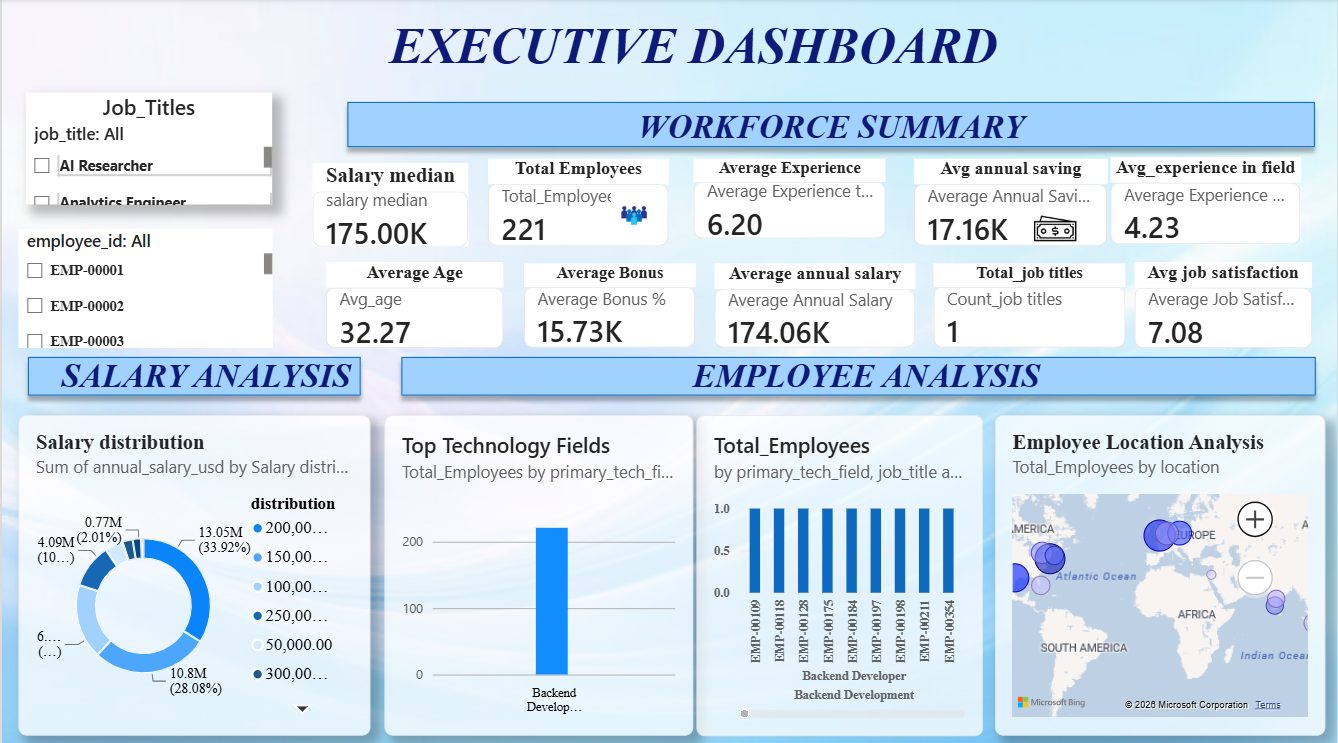

The page's visual inventory and layout, read from the dashboard file:
{"tool":"powerbi","page":{"name":"Executive dashboard","canvas":[1280,720],"ordinal":0},"visuals":[{"type":"cardVisual","title":"Avg annual saving","fields":{"Data":["tech_salary_dataset.Average Annual Salary"]},"box":[874.9,153.9,185.9,83.5],"z":0,"group":"g2"},{"type":"cardVisual","title":"Average annual salary","fields":{"Data":["tech_salary_dataset.Average Annual Salary1"]},"box":[682.5,254.4,193,80.7],"z":0},{"type":"cardVisual","title":"Average Bonus","fields":{"Data":["tech_salary_dataset.Average Bonus %"]},"box":[500,254.4,164.9,80.7],"z":1000},{"type":"cardVisual","title":"Avg job satisfaction","fields":{"Data":["tech_salary_dataset.Average Job Satisfaction Score"]},"box":[1086,252.6,170.2,82.5],"z":2000},{"type":"cardVisual","title":"Average Experience","fields":{"Data":["tech_salary_dataset.Average Experience total"]},"box":[663.1,154.4,184.3,77.2],"z":3000},{"type":"cardVisual","title":"Avg_experience in field","fields":{"Data":["tech_salary_dataset.Average Experience"]},"box":[1063.2,152.8,182.7,83.5],"z":4000},{"type":"donutChart","title":"Salary distribution","fields":{"Category":["tech_salary_dataset.Salary distribution"],"Y":["Sum(tech_salary_dataset.annual_salary_usd)"]},"box":[15.8,400.1,337.1,307.1],"z":5000},{"type":"columnChart","title":"Top Technology Fields","fields":{"Category":["tech_salary_dataset.primary_tech_field"],"Y":["tech_salary_dataset.Total_Employees"]},"box":[367,400.1,296.1,307.1],"z":6000},{"type":"map","title":"Employee Location Analysis","fields":{"Size":["tech_salary_dataset.Total_Employees"],"Category":["tech_salary_dataset.location"]},"box":[951.3,400.1,316.6,307.1],"z":7000},{"type":"slicer","title":"Job_Titles","fields":{"Values":["tech_salary_dataset.job_title"]},"box":[23.3,90,235.7,107],"z":8000},{"type":"cardVisual","title":"Total_job titles","fields":{"Data":["tech_salary_dataset.Count_job titles"]},"box":[893,254.4,184.2,80.7],"z":9000},{"type":"cardVisual","title":"Average Age","fields":{"Data":["tech_salary_dataset.Avg_age"]},"box":[310.5,252.6,170.2,82.5],"z":10000},{"type":"group","id":"g1","title":"Group 1","box":[466.2,154.4,174.8,83.5],"z":11000},{"type":"cardVisual","title":"Total Employees","fields":{"Data":["tech_salary_dataset.Total_Employees"]},"box":[466.2,154.4,173.4,83.8],"z":11500,"group":"g1"},{"type":"image","box":[572.6,185.6,67.4,44.9],"z":11750,"group":"g1"},{"type":"textbox","box":[310.5,19.3,705.3,59.6],"z":12000},{"type":"shape","box":[322.8,91.2,945.6,61.4],"z":13000},{"type":"textbox","box":[322.8,105.3,945.6,64.9],"z":14000},{"type":"shape","box":[15.8,335.5,337.1,55.1],"z":15000},{"type":"shape","box":[373.3,335.5,894.6,55.1],"z":16000},{"type":"textbox","box":[22.8,343.9,345.6,47.4],"z":17000},{"type":"textbox","box":[447.4,343.9,763.2,47.4],"z":18000},{"type":"cardVisual","title":"Salary median","fields":{"Data":["tech_salary_dataset.salary median"]},"box":[297.7,157.5,149.6,80.3],"z":19000},{"type":"slicer","fields":{"Values":["tech_salary_dataset.employee_id"]},"box":[15.8,221.5,243,113.6],"z":20000},{"type":"group","id":"g2","title":"Group 2","box":[874.9,153.9,186.3,93.2],"z":21000},{"type":"image","box":[990.7,196,40.5,50.6],"z":21001,"group":"g2"},{"type":"columnChart","fields":{"Y":["tech_salary_dataset.Total_Employees"],"Category":["tech_salary_dataset.primary_tech_field Hierarchy.primary_tech_field","tech_salary_dataset.primary_tech_field Hierarchy.job_title","tech_salary_dataset.primary_tech_field Hierarchy.employee_id"]},"box":[665.8,399.8,274.7,307.8],"z":22000}]}

Visuals, with their boxes in screenshot pixels (x1, y1, x2, y2), scaled from the page's 1280x720 canvas onto the 1338x743 screenshot:
"Avg annual saving" cardVisual: l=915, t=159, r=1109, b=245
"Average annual salary" cardVisual: l=713, t=263, r=915, b=346
"Average Bonus" cardVisual: l=523, t=263, r=695, b=346
"Avg job satisfaction" cardVisual: l=1135, t=261, r=1313, b=346
"Average Experience" cardVisual: l=693, t=159, r=886, b=239
"Avg_experience in field" cardVisual: l=1111, t=158, r=1302, b=244
"Salary distribution" donutChart: l=17, t=413, r=369, b=730
"Top Technology Fields" columnChart: l=384, t=413, r=693, b=730
"Employee Location Analysis" map: l=994, t=413, r=1325, b=730
"Job_Titles" slicer: l=24, t=93, r=271, b=203
"Total_job titles" cardVisual: l=933, t=263, r=1126, b=346
"Average Age" cardVisual: l=325, t=261, r=502, b=346
"Group 1" group: l=487, t=159, r=670, b=245
"Total Employees" cardVisual: l=487, t=159, r=669, b=246
image: l=599, t=192, r=669, b=238
textbox: l=325, t=20, r=1062, b=81
shape: l=337, t=94, r=1326, b=157
textbox: l=337, t=109, r=1326, b=176
shape: l=17, t=346, r=369, b=403
shape: l=390, t=346, r=1325, b=403
textbox: l=24, t=355, r=385, b=404
textbox: l=468, t=355, r=1265, b=404
"Salary median" cardVisual: l=311, t=163, r=468, b=245
slicer - tech_salary_dataset.employee_id: l=17, t=229, r=271, b=346
"Group 2" group: l=915, t=159, r=1109, b=255
image: l=1036, t=202, r=1078, b=254
columnChart - tech_salary_dataset.Total_Employees x tech_salary_dataset.primary_tech_field Hierarchy.primary_tech_field: l=696, t=413, r=983, b=730
